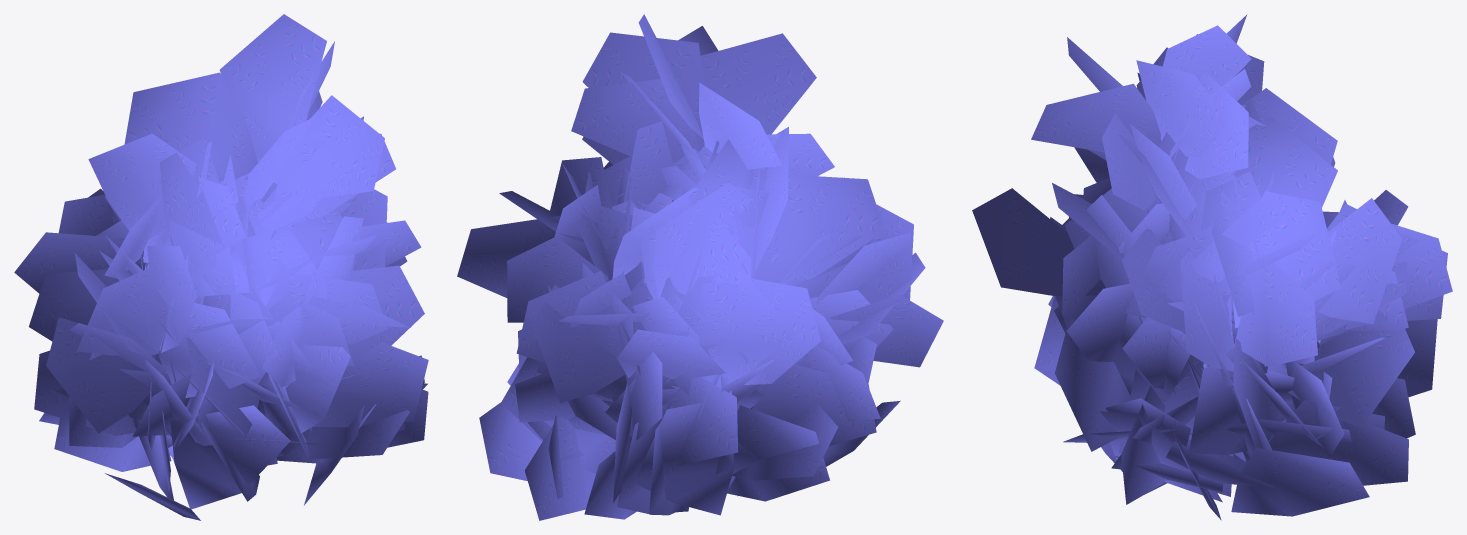
The model's file is tree_Broadleaf_Bush_L1_LOD1.fbx.
3 renders of one model, left to right at view 1: azimuth 30°, elevation 25°; view 2: azimuth 150°, elevation 25°; view 3: azimuth 270°, elevation 25°, orthographic. The views are drawn at different scales.
Visible parts, largest first — view 1: Broadleaf_Bush_L1_LOD1; view 2: Broadleaf_Bush_L1_LOD1; view 3: Broadleaf_Bush_L1_LOD1.
Part boxes in pixels (x1,y1,x2,y2): Broadleaf_Bush_L1_LOD1: [14, 14, 428, 520]; Broadleaf_Bush_L1_LOD1: [457, 14, 943, 520]; Broadleaf_Bush_L1_LOD1: [972, 14, 1452, 520].
Size of the model in its own units: 582 by 627 by 572.
